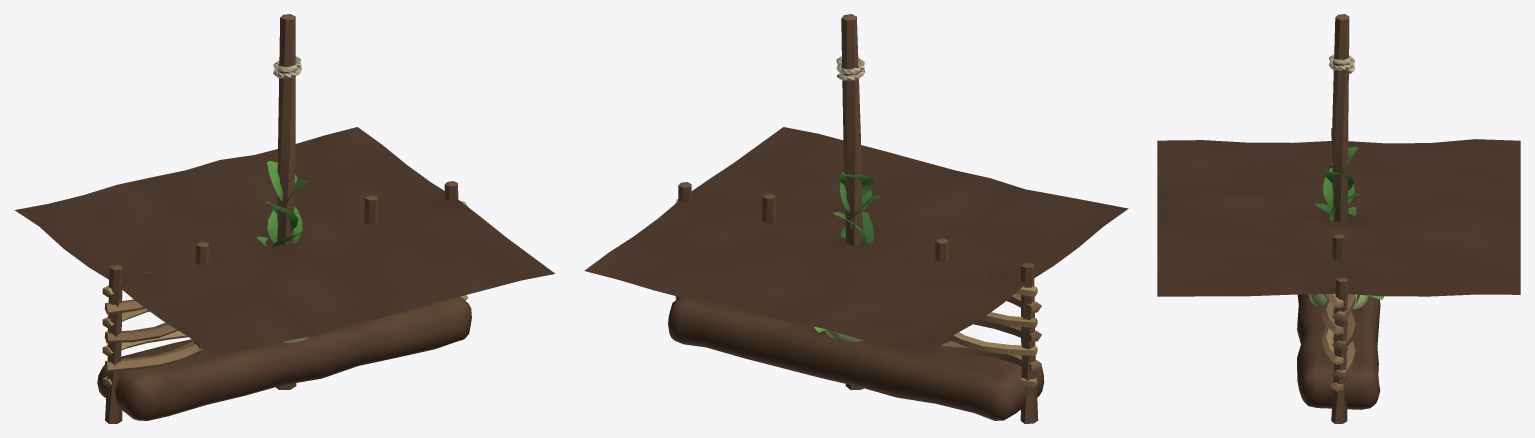
The model's file is pr_gardenplot.glb.
The picture shows the model from 3 angles, left to right: view 1: azimuth 30°, elevation 25°; view 2: azimuth 150°, elevation 25°; view 3: azimuth 270°, elevation 25°; orthographic projection. The views are drawn at different scales.
Visible parts, largest first — view 1: PR_gardenplot__bed, PR_gardenplot__row, PR_gardenplot__wattle, PR_gardenplot__stake, PR_gardenplot__tomato; view 2: PR_gardenplot__bed, PR_gardenplot__row, PR_gardenplot__wattle, PR_gardenplot__stake, PR_gardenplot__tomato; view 3: PR_gardenplot__bed, PR_gardenplot__row, PR_gardenplot__wattle, PR_gardenplot__stake, PR_gardenplot__tomato, PR_gardenplot__cabbage.
Boxes of the visible parts, bbox=[...] form: PR_gardenplot__bed: bbox=[14, 127, 555, 354]; PR_gardenplot__row: bbox=[97, 296, 471, 420]; PR_gardenplot__wattle: bbox=[102, 181, 468, 423]; PR_gardenplot__stake: bbox=[273, 14, 301, 389]; PR_gardenplot__tomato: bbox=[257, 161, 307, 247]; PR_gardenplot__bed: bbox=[584, 127, 1128, 354]; PR_gardenplot__row: bbox=[668, 297, 1044, 420]; PR_gardenplot__wattle: bbox=[675, 182, 1041, 423]; PR_gardenplot__stake: bbox=[836, 14, 864, 389]; PR_gardenplot__tomato: bbox=[833, 172, 880, 250]; PR_gardenplot__bed: bbox=[1157, 139, 1520, 296]; PR_gardenplot__row: bbox=[1297, 294, 1380, 409]; PR_gardenplot__wattle: bbox=[1320, 128, 1355, 423]; PR_gardenplot__stake: bbox=[1329, 14, 1354, 222]; PR_gardenplot__tomato: bbox=[1314, 146, 1359, 223]; PR_gardenplot__cabbage: bbox=[1308, 294, 1384, 309].
Bounding box in the file's own units: 1.05 × 1.03 × 1.
